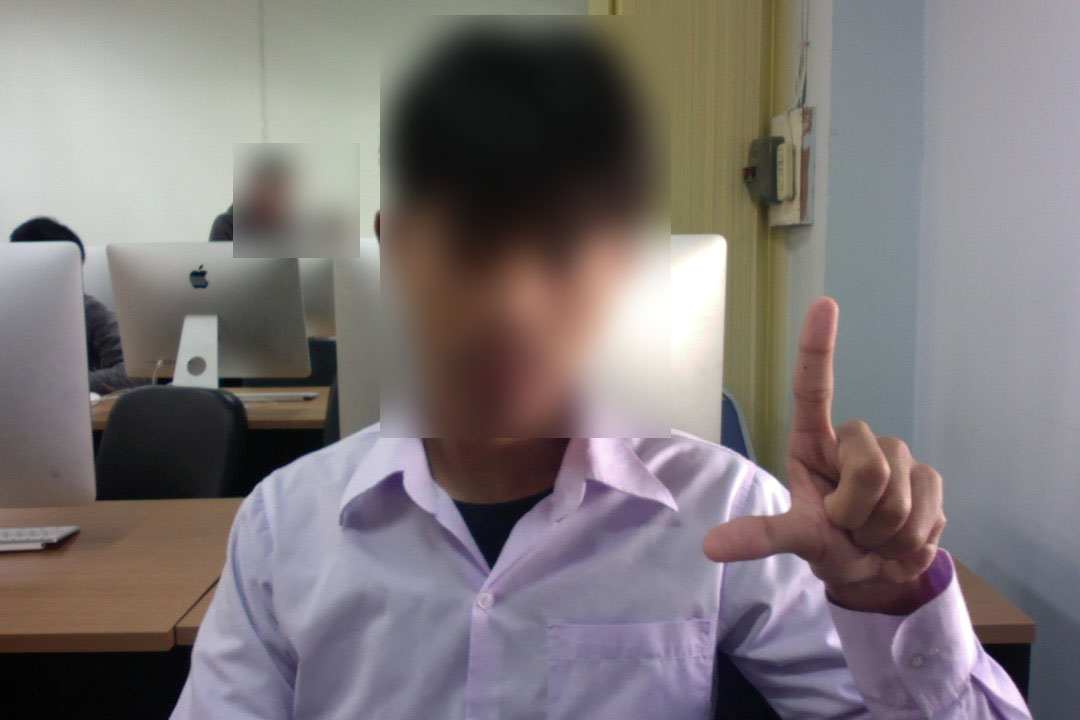lor: (684, 287, 955, 607)
